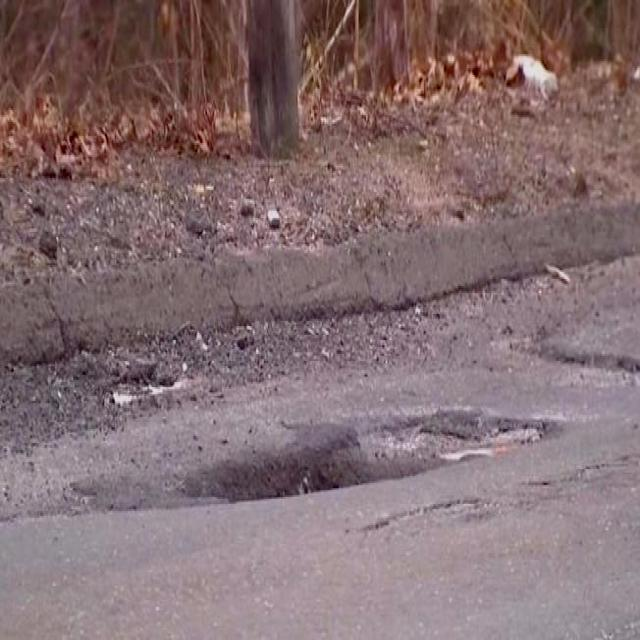Pothole: (6, 399, 568, 541)
